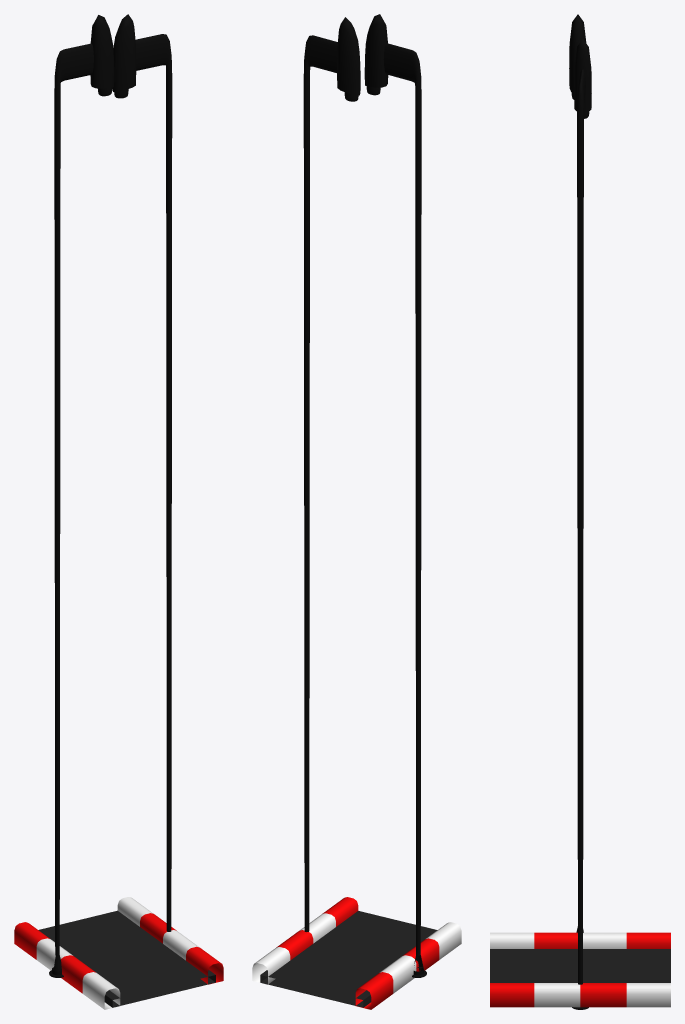
3 views of the same model, side by side, from view 1: azimuth 30°, elevation 25°; view 2: azimuth 150°, elevation 25°; view 3: azimuth 270°, elevation 25° (orthographic).
Parts seen in each view (by area): view 1: StraightTrack01_Cube.001_StraightTrack01_Cube.001, rightLight_rightLight_rightLight_rightLight_rightLight_rightLig_, leftLight_leftLight_leftLight_leftLight_leftLight_leftLight_lef_; view 2: StraightTrack01_Cube.001_StraightTrack01_Cube.001, rightLight_rightLight_rightLight_rightLight_rightLight_rightLig_, leftLight_leftLight_leftLight_leftLight_leftLight_leftLight_lef_; view 3: StraightTrack01_Cube.001_StraightTrack01_Cube.001, leftLight_leftLight_leftLight_leftLight_leftLight_leftLight_lef_, rightLight_rightLight_rightLight_rightLight_rightLight_rightLig_.
Part boxes in pixels (x1,y1,x2,y2): StraightTrack01_Cube.001_StraightTrack01_Cube.001: (14,897,223,1009); rightLight_rightLight_rightLight_rightLight_rightLight_rightLig_: (53,15,114,971); leftLight_leftLight_leftLight_leftLight_leftLight_leftLight_lef_: (112,14,172,931); StraightTrack01_Cube.001_StraightTrack01_Cube.001: (252,897,461,1009); rightLight_rightLight_rightLight_rightLight_rightLight_rightLig_: (364,14,423,969); leftLight_leftLight_leftLight_leftLight_leftLight_leftLight_lef_: (303,17,360,931); StraightTrack01_Cube.001_StraightTrack01_Cube.001: (490,932,670,1007); leftLight_leftLight_leftLight_leftLight_leftLight_leftLight_lef_: (574,39,591,984); rightLight_rightLight_rightLight_rightLight_rightLight_rightLig_: (569,14,586,932).
Bounding box in the file's own units: 12.5 × 89.34 × 15.29.
